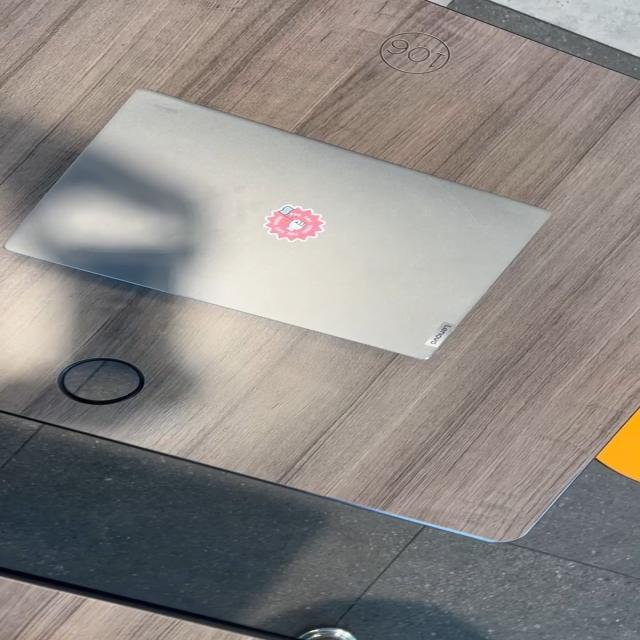laptop: (3, 86, 552, 361)
